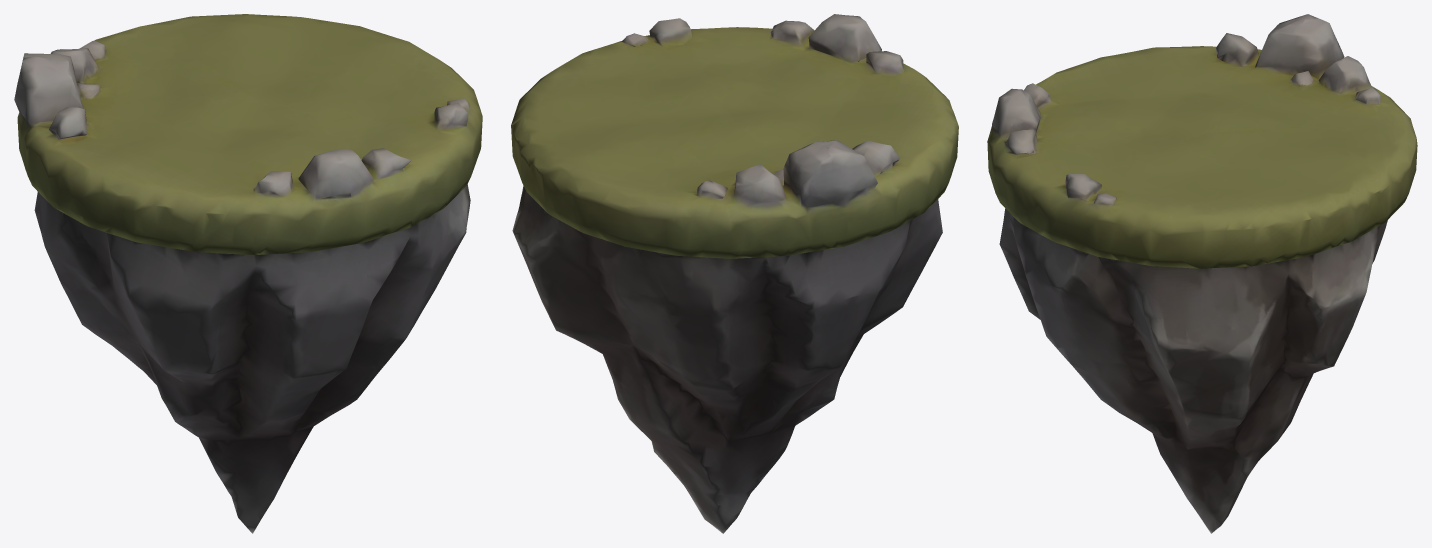
Rendered from island.glb.
3 views of the same model, side by side, from view 1: azimuth 30°, elevation 25°; view 2: azimuth 150°, elevation 25°; view 3: azimuth 270°, elevation 25° (orthographic). The views are drawn at different scales.
Parts seen in each view (by area): view 1: tripo_node_d9a2b38a-625c-4ca6-990b-78763eed0803; view 2: tripo_node_d9a2b38a-625c-4ca6-990b-78763eed0803; view 3: tripo_node_d9a2b38a-625c-4ca6-990b-78763eed0803.
Part boxes in pixels (box(x1,y1,x2,y2)): tripo_node_d9a2b38a-625c-4ca6-990b-78763eed0803: box(14, 14, 482, 533); tripo_node_d9a2b38a-625c-4ca6-990b-78763eed0803: box(511, 14, 958, 533); tripo_node_d9a2b38a-625c-4ca6-990b-78763eed0803: box(987, 14, 1417, 533).
Size of the model in its own units: 0.881 by 1 by 0.8818.
1 material, 1 textured.
